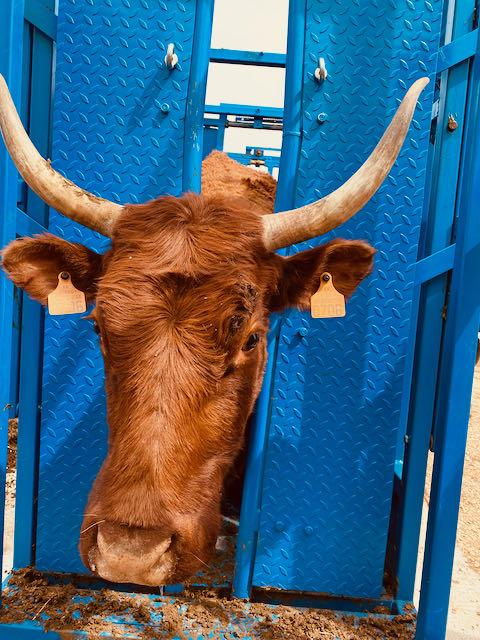muzzles: (79, 519, 184, 589)
